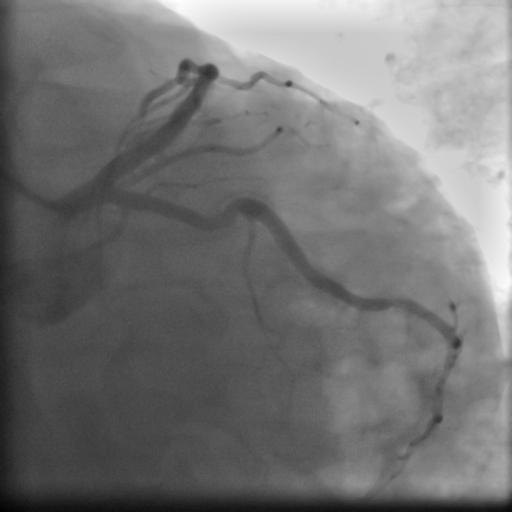Stenosis: (214, 199, 240, 224)
